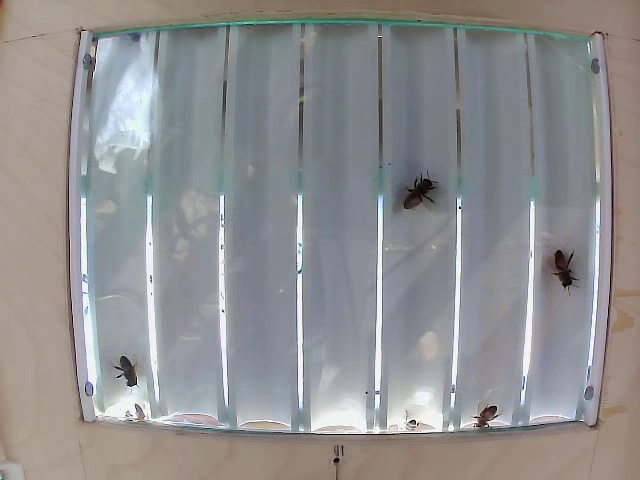bee: (401, 166, 443, 215), (548, 247, 581, 296), (111, 348, 143, 392), (473, 402, 499, 430)
